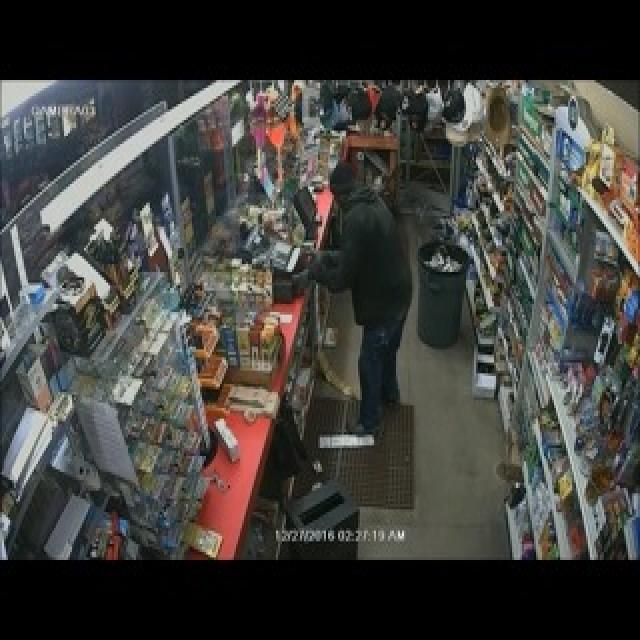thief: (310, 146, 413, 380)
